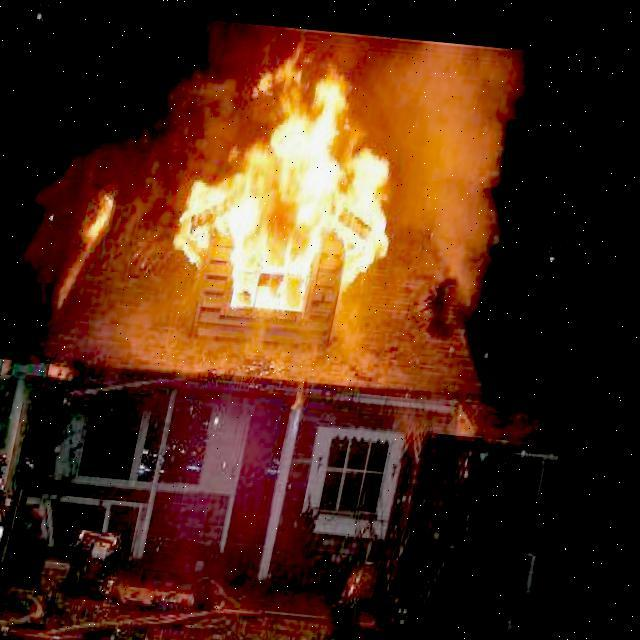Fire: (174, 36, 427, 318)
